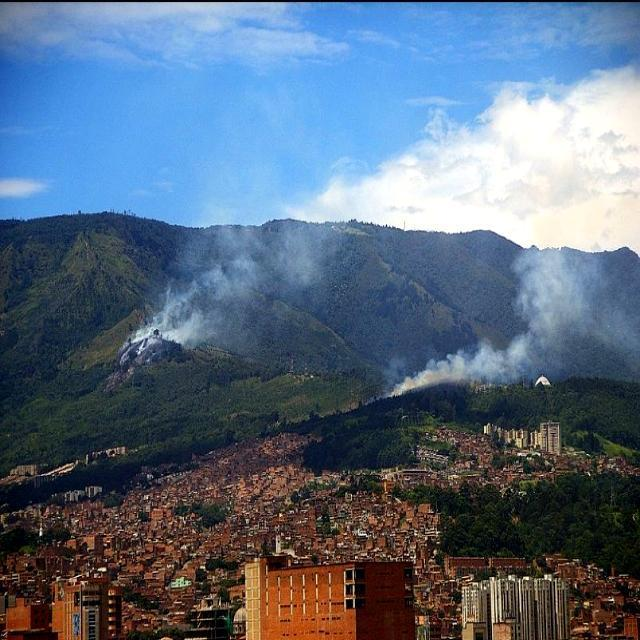Smoke: (119, 193, 344, 354), (413, 240, 640, 384)
